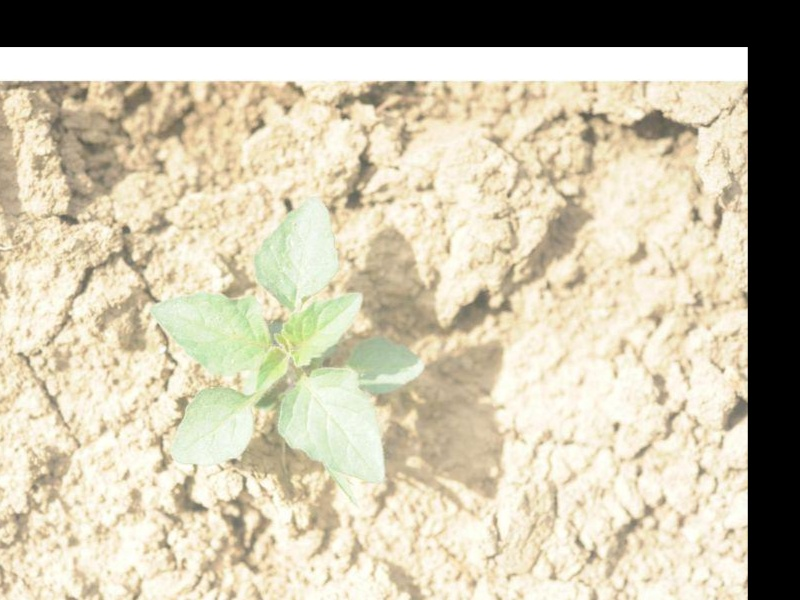nightshade: (150, 196, 422, 484)
